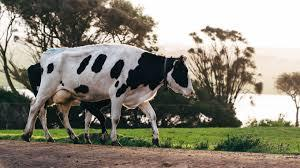cow: (25, 44, 195, 146)
